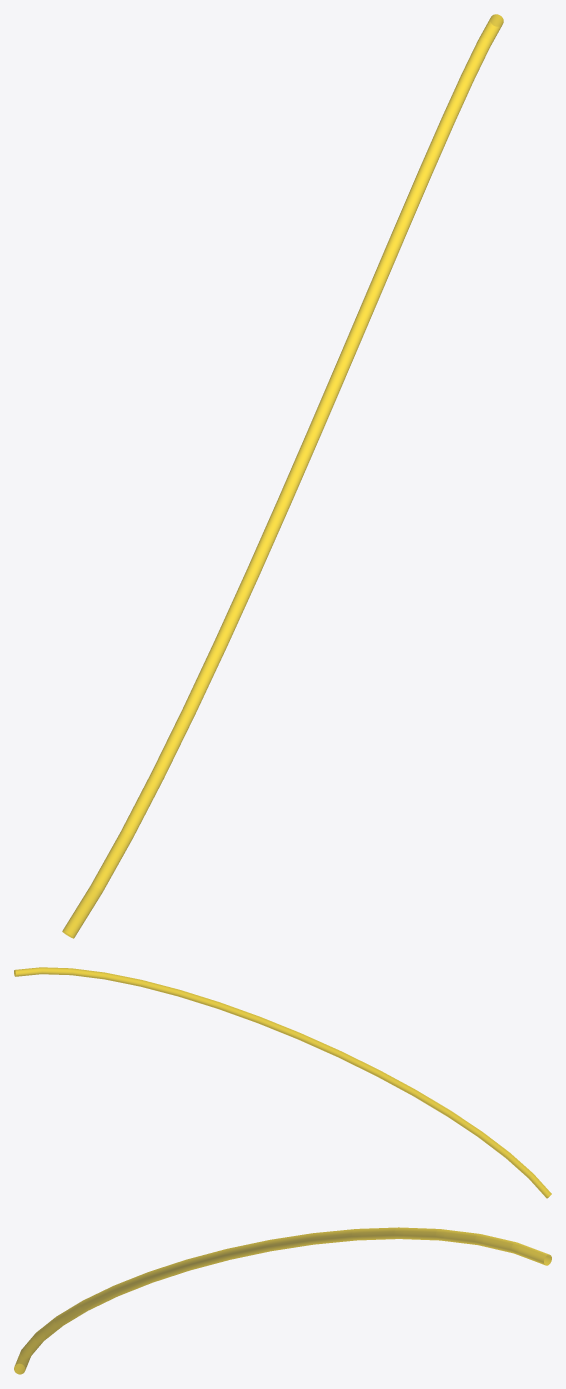
Rendered from Event_402970704_track_19.fbx.
3 renders of one model, top to bottom at view 1: azimuth 30°, elevation 25°; view 2: azimuth 150°, elevation 25°; view 3: azimuth 270°, elevation 25°, orthographic. The views are drawn at different scales.
Visible parts, largest first — view 1: Model; view 2: Model; view 3: Model.
Part boxes in pixels (box(x1,y1,x2,y2)): Model: box(62, 14, 503, 938); Model: box(14, 967, 551, 1198); Model: box(14, 1227, 551, 1374).
Bounding box in the file's own units: 2.5 × 1.6 × 1.86.
